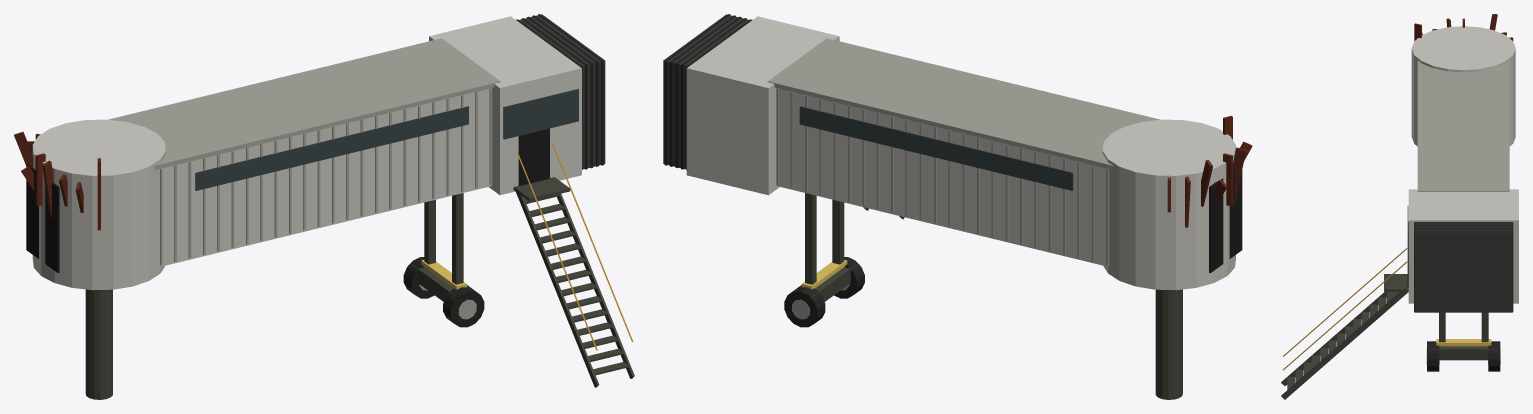
File: airport_jet_bridge.glb
3 views of the same model, side by side, from view 1: azimuth 30°, elevation 25°; view 2: azimuth 150°, elevation 25°; view 3: azimuth 270°, elevation 25° (orthographic). The views are drawn at different scales.
Parts seen in each view (by area): view 1: airport_jet_bridge; view 2: airport_jet_bridge; view 3: airport_jet_bridge.
Boxes of the visible parts, <box> form: airport_jet_bridge: <box>14,14,634,399</box>; airport_jet_bridge: <box>663,14,1252,399</box>; airport_jet_bridge: <box>1281,14,1518,399</box>.
Size of the model in its own units: 15.89 by 7.41 by 7.76.
